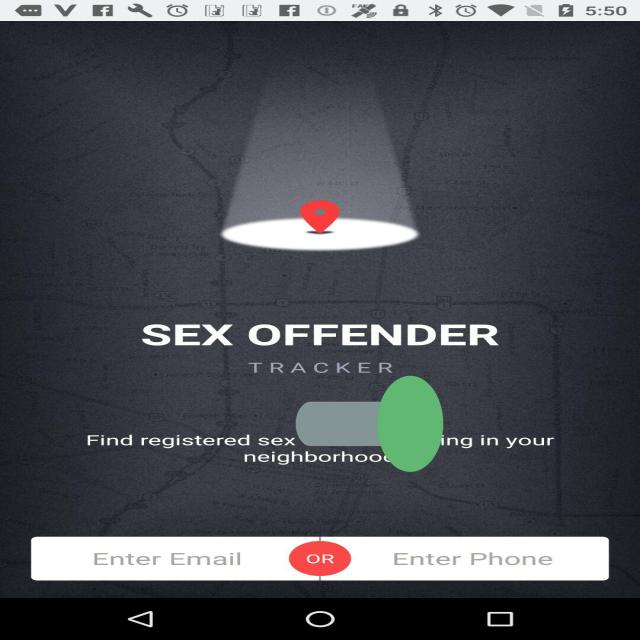social proof: (296, 317, 443, 531)
